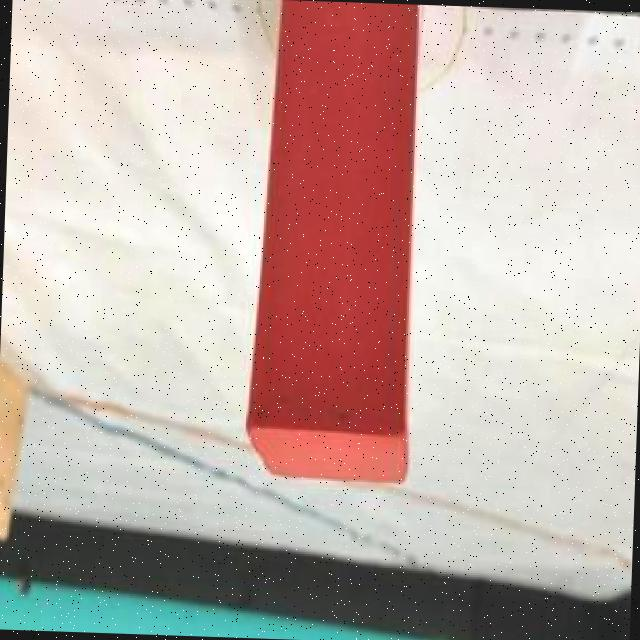redbox: (243, 0, 427, 487)
